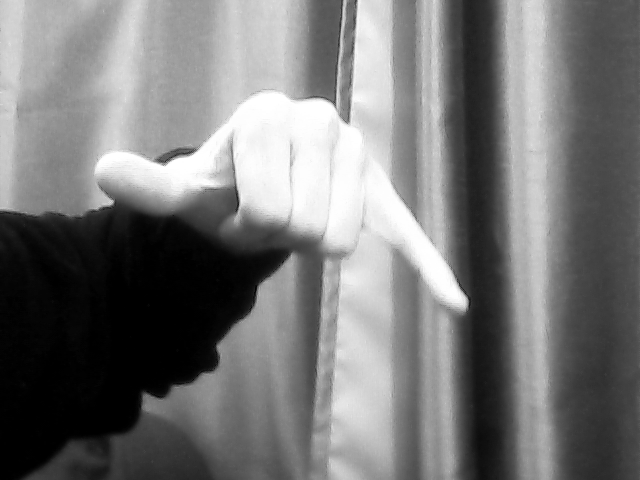aloha: (88, 84, 476, 315)
